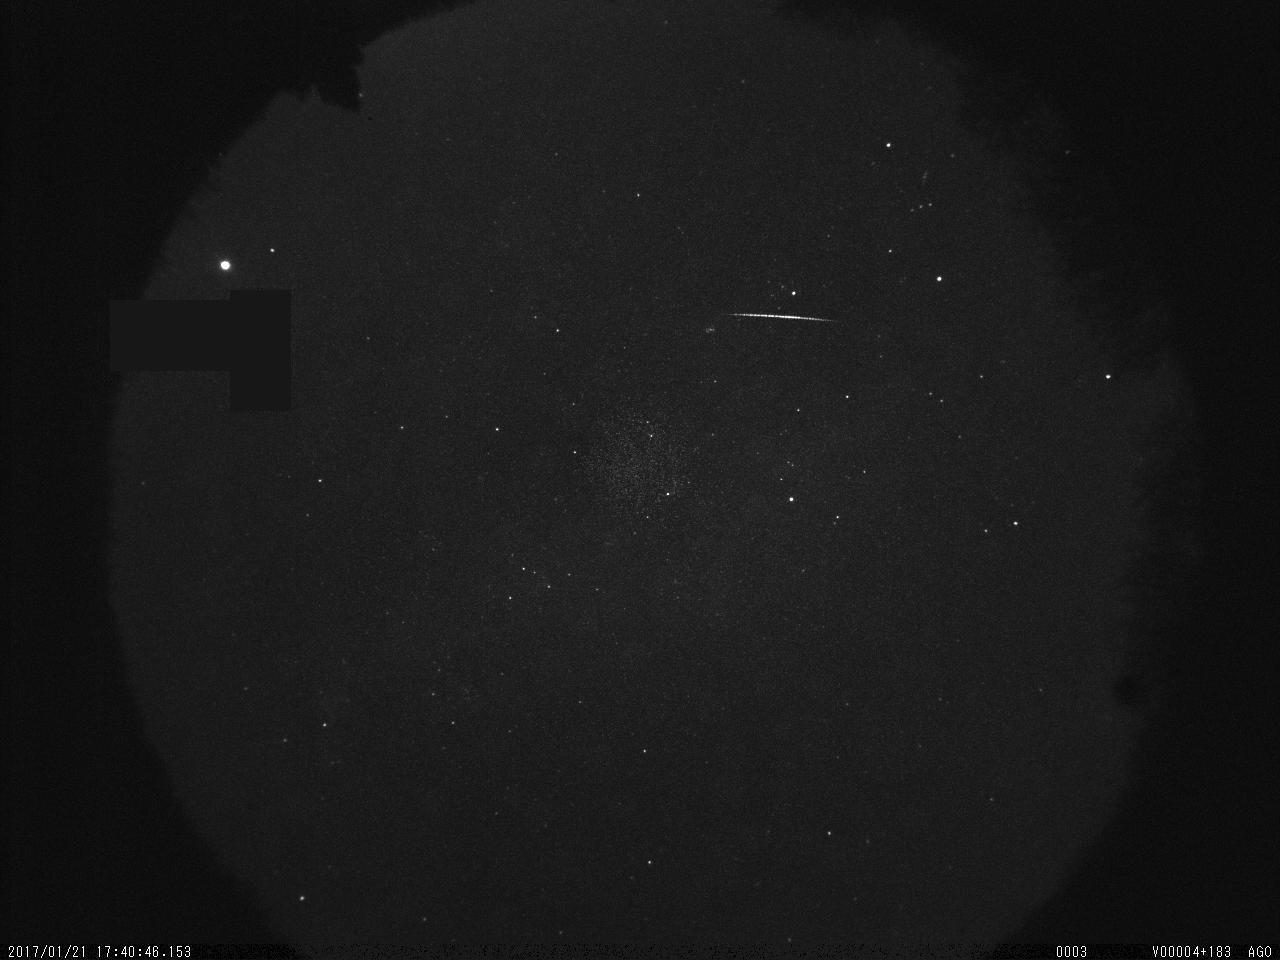meteor: (727, 299, 829, 331)
